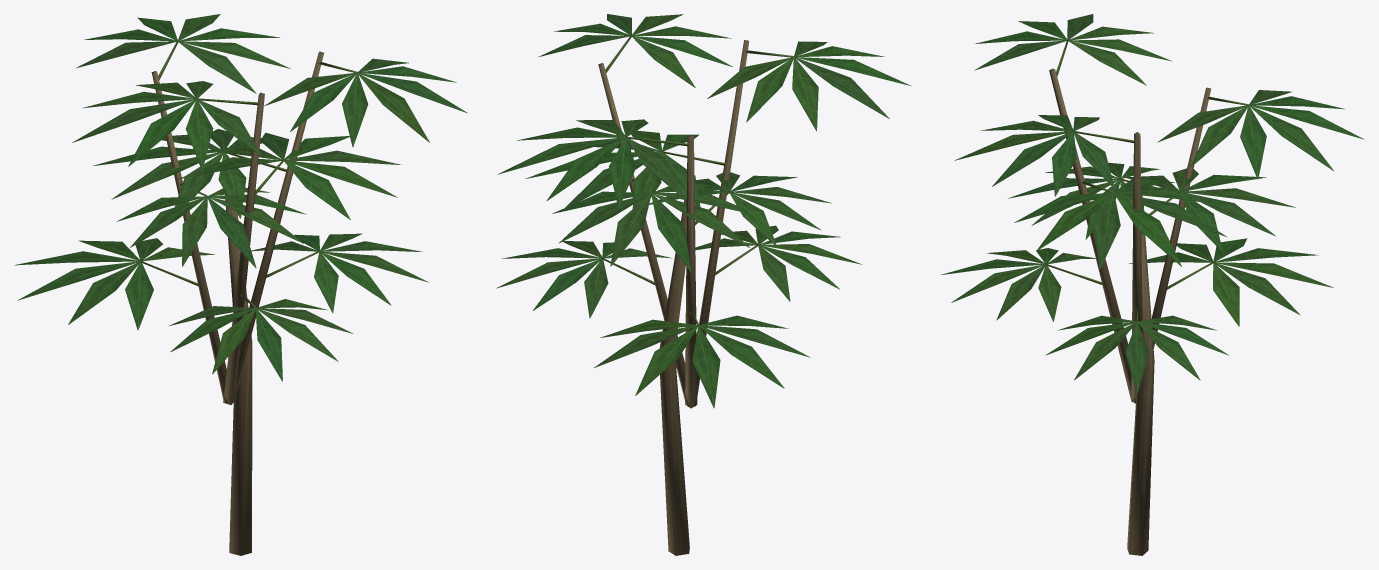
File: Tapioca_Cassava.glb
The picture shows the model from 3 angles, left to right: view 1: azimuth 30°, elevation 25°; view 2: azimuth 150°, elevation 25°; view 3: azimuth 270°, elevation 25°; orthographic projection. The views are drawn at different scales.
Parts seen in each view (by area): view 1: Tapioca_Cassava; view 2: Tapioca_Cassava; view 3: Tapioca_Cassava.
Boxes of the visible parts, box(x1,y1,x2,y2) form: Tapioca_Cassava: box(14, 14, 467, 555); Tapioca_Cassava: box(496, 14, 910, 555); Tapioca_Cassava: box(941, 14, 1364, 555).
Bounding box in the file's own units: 1.37 × 1.75 × 1.42.
1 material, 1 textured.
